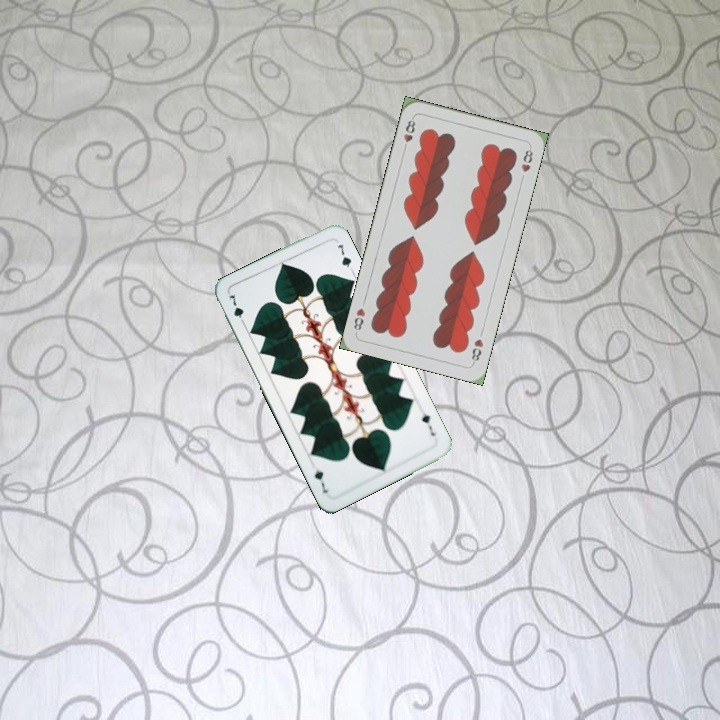G7: (225, 288, 248, 329), (417, 410, 438, 439)
H8: (399, 113, 418, 153), (467, 335, 486, 366)
